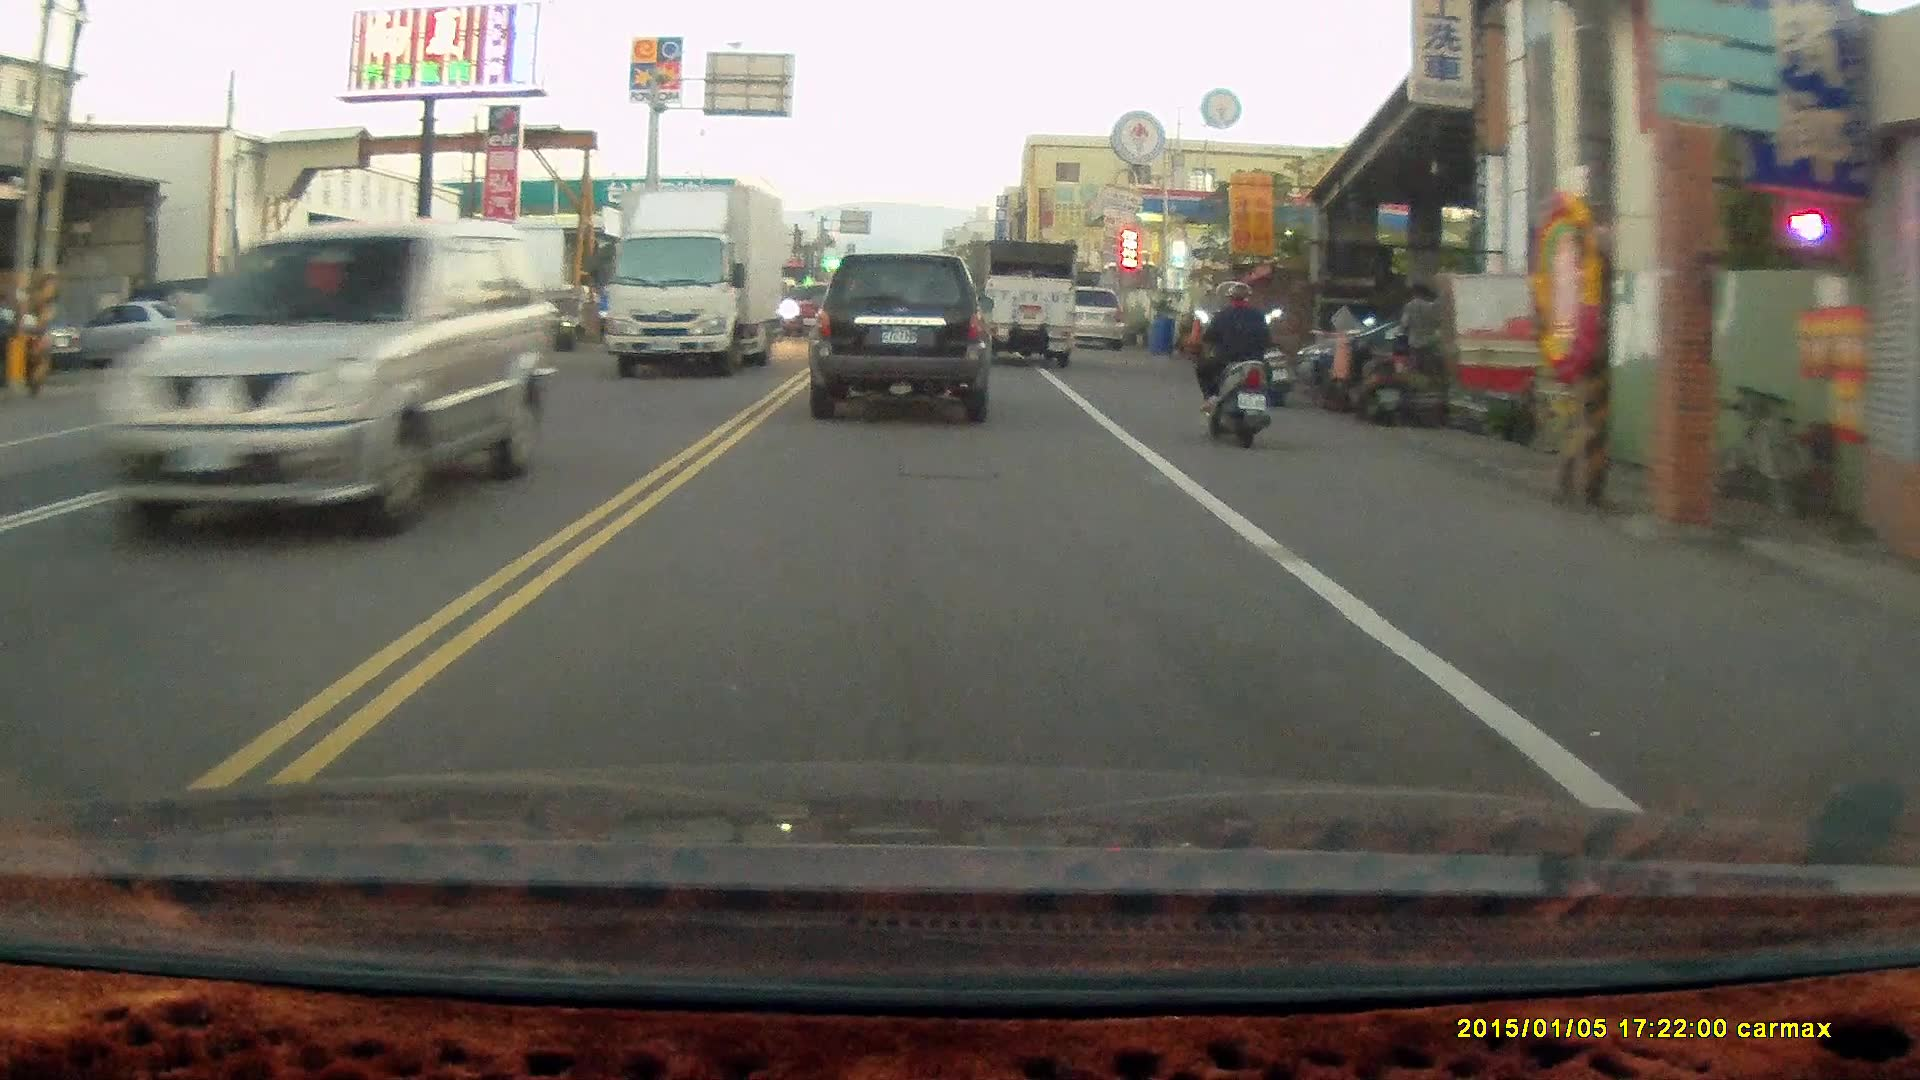pedestrian: (1397, 280, 1442, 405)
rider: (1187, 281, 1276, 449)
vehicle: (101, 216, 558, 541), (604, 183, 786, 378), (805, 252, 993, 427), (64, 297, 225, 373), (980, 237, 1074, 366)
